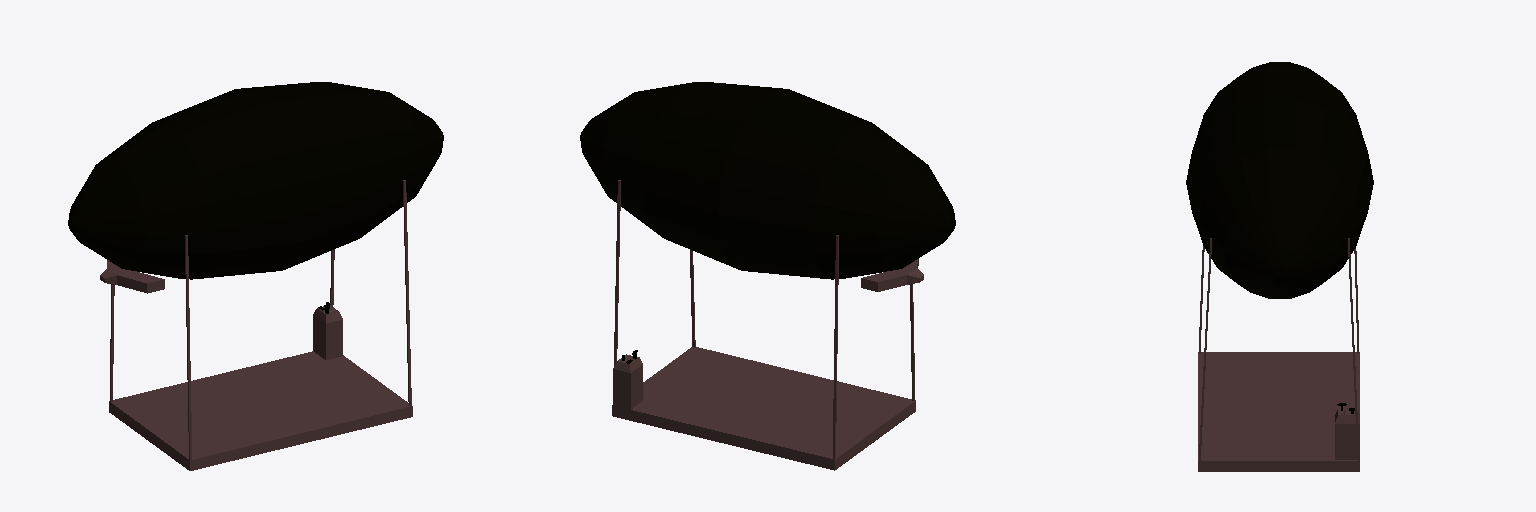
Rendered from blimp.obj.
3 renders of one model, left to right at view 1: azimuth 30°, elevation 25°; view 2: azimuth 150°, elevation 25°; view 3: azimuth 270°, elevation 25°, orthographic.
Parts seen in each view (by area): view 1: blimp, control_box, motor; view 2: blimp, control_box, motor; view 3: blimp, control_box.
Boxes of the visible parts, x1=… form: blimp: x1=68, y1=82, x2=443, y2=470; control_box: x1=313, y1=302, x2=342, y2=359; motor: x1=100, y1=260, x2=164, y2=293; blimp: x1=580, y1=82, x2=955, y2=470; control_box: x1=613, y1=350, x2=642, y2=409; motor: x1=861, y1=259, x2=923, y2=291; blimp: x1=1186, y1=62, x2=1373, y2=471; control_box: x1=1335, y1=403, x2=1359, y2=459.
Bounding box in the file's own units: 7.88 × 6.5 × 3.48.